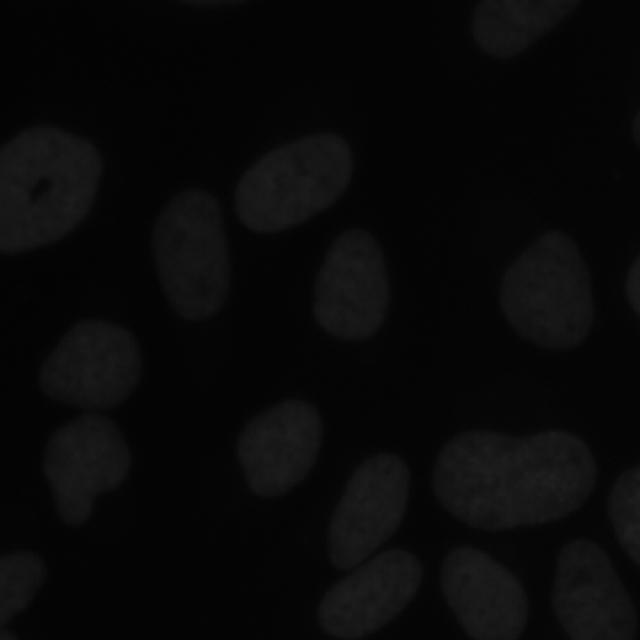cell: (39, 320, 141, 524), (320, 452, 422, 639), (432, 430, 596, 529), (0, 126, 102, 254), (235, 134, 354, 233), (235, 134, 352, 232), (500, 231, 594, 349), (151, 189, 230, 321), (312, 229, 390, 342), (239, 401, 322, 498), (440, 550, 528, 640), (554, 545, 618, 640), (472, 1, 575, 59), (0, 551, 45, 629), (609, 468, 640, 561), (626, 256, 640, 316)
